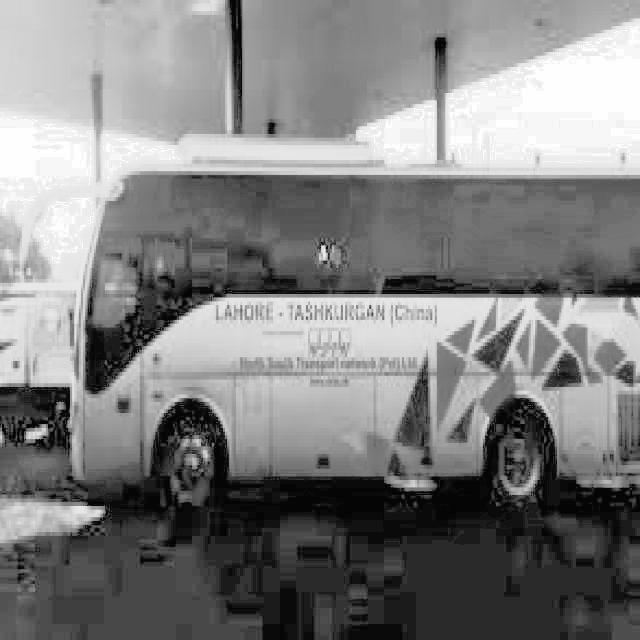Bus: (10, 130, 638, 520)
